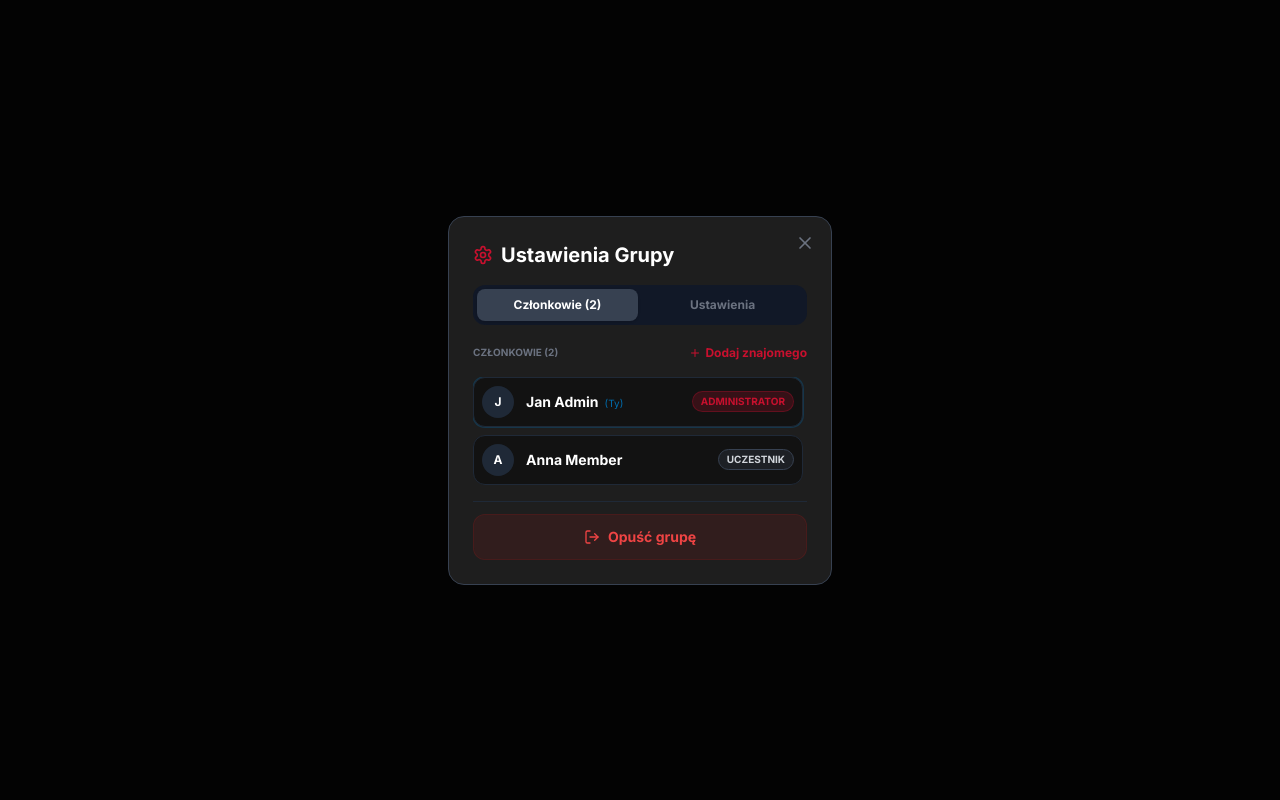
Test case: GroupSettings › shows settings tab for admins
This screenshot has width=1280, height=800.
Click the button "Ustawienia".
click(722, 304)  # box [642,288,803,320]
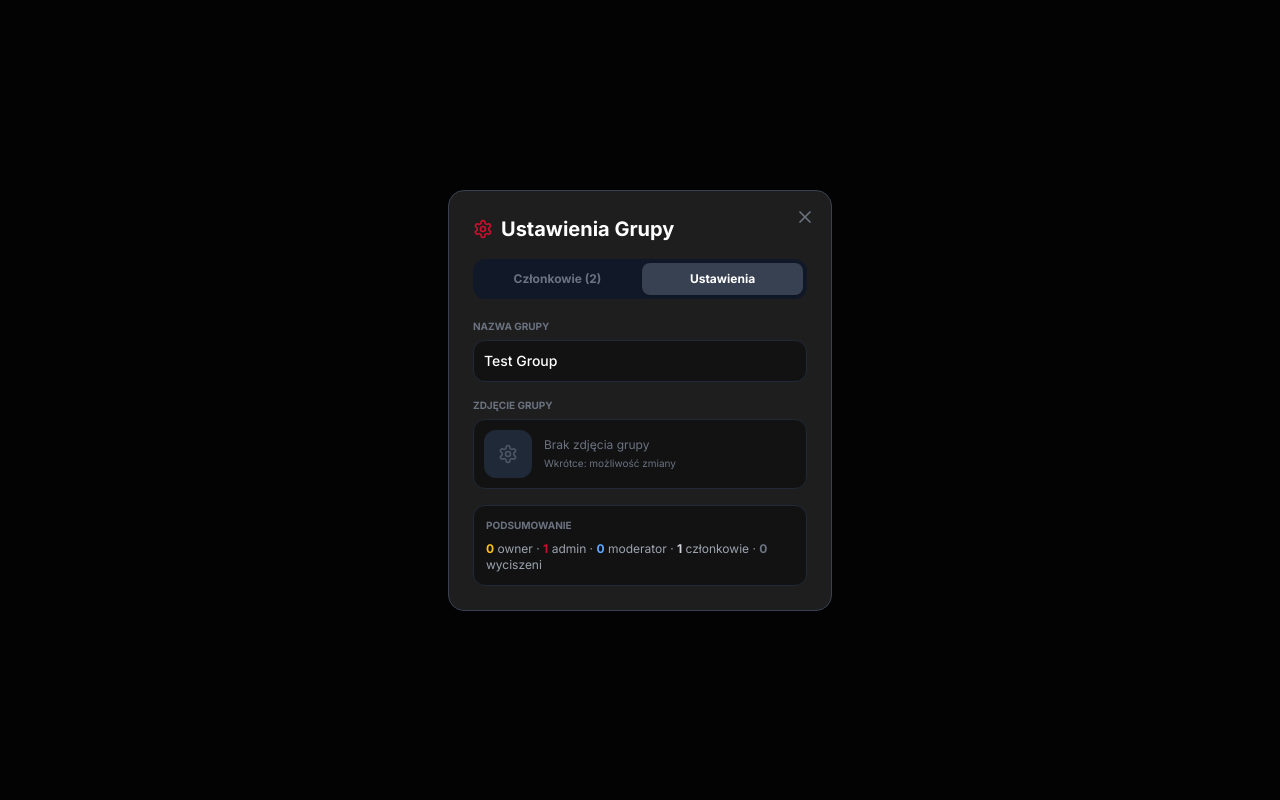
Expected: the text "Test Group" is shown, [484,352,558,368]
